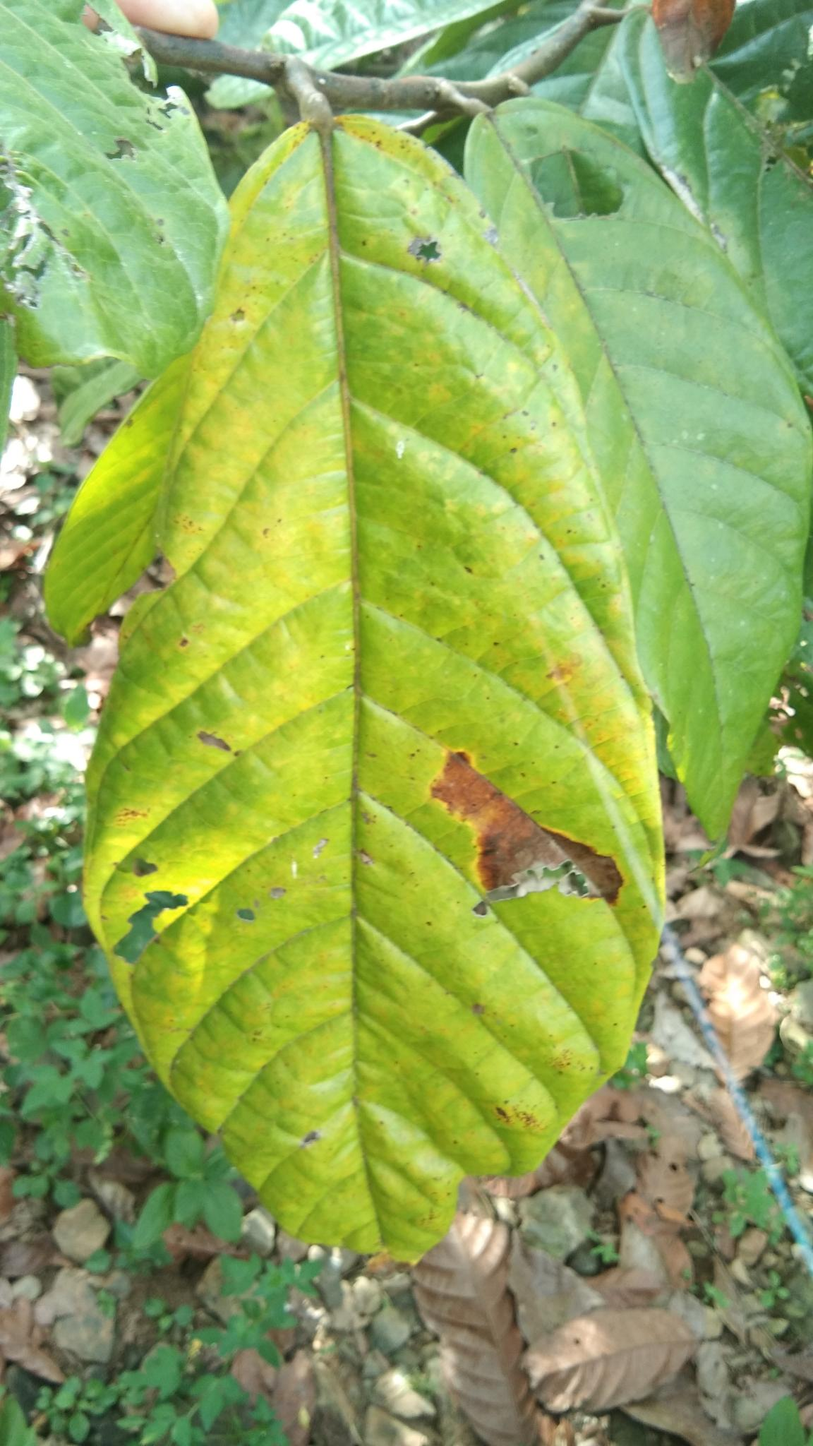Fosforo: (85, 112, 666, 1263), (466, 100, 811, 832)
